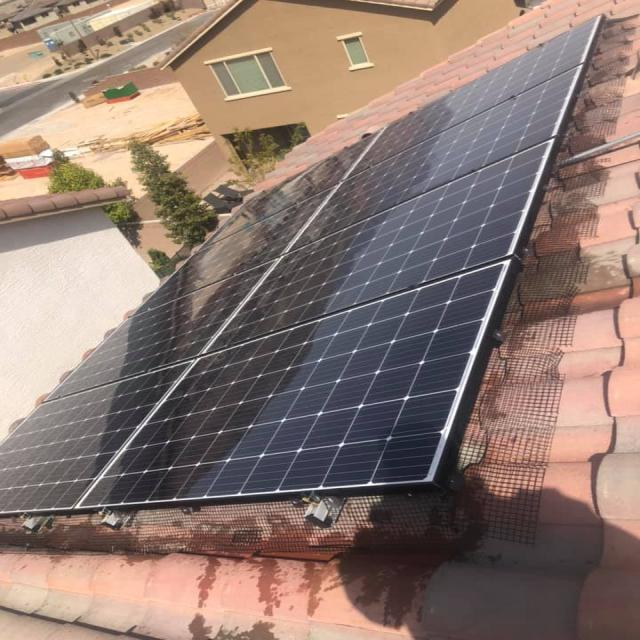clean-solar-panel: (3, 19, 600, 515)
